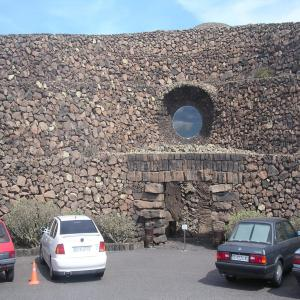Vehicle-registration-plate: (232, 254, 249, 263), (75, 246, 93, 254)
